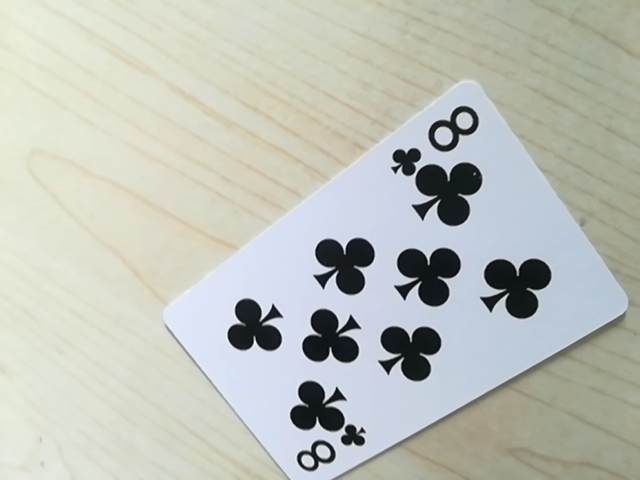mh 8: (390, 98, 485, 174), (287, 428, 365, 479)
